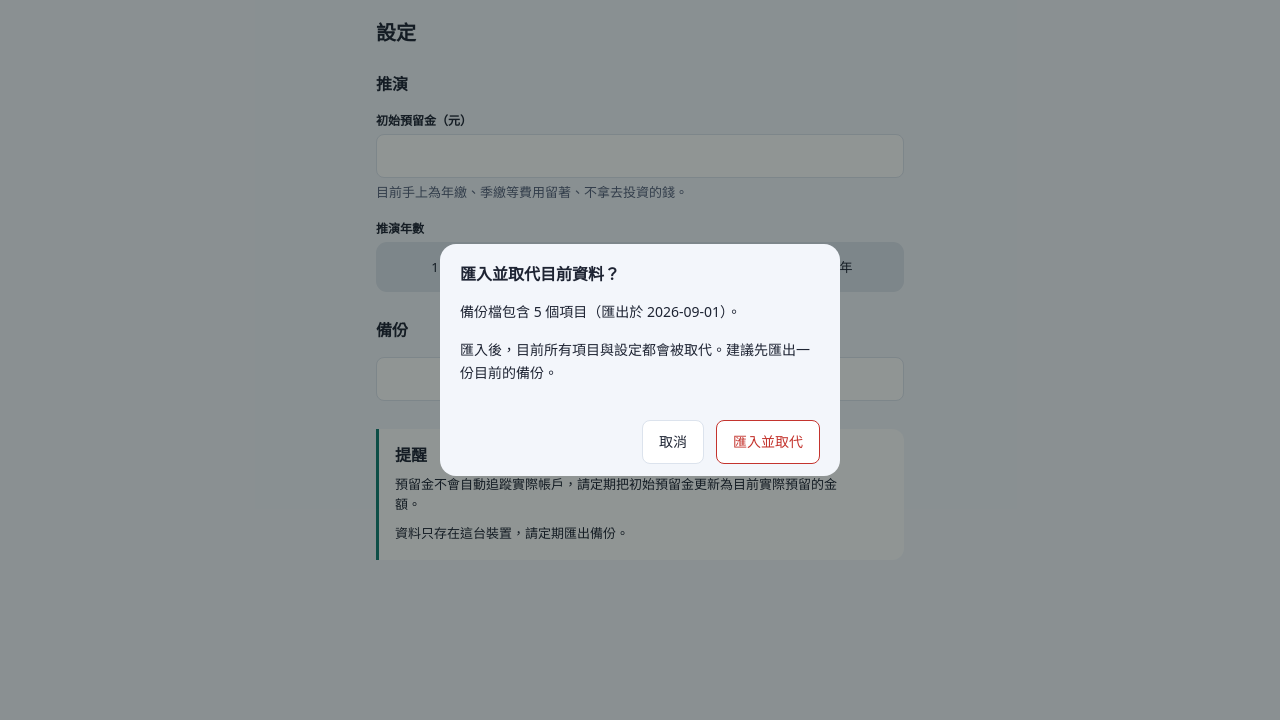
匯入 › 確認對話框顯示摘要，確認後完全取代
The width and height of the screenshot is (1280, 720).
Earlier steps of the test are not shown.
Expected: the button "匯入備份" is shown, [646, 357, 904, 401]
Expected: the dialog shows "備份檔包含 5 個項目（匯出於 2026-09-01）", [440, 244, 840, 476]
Click the button "匯入並取代".
click(768, 442)  # box [716, 420, 820, 464]
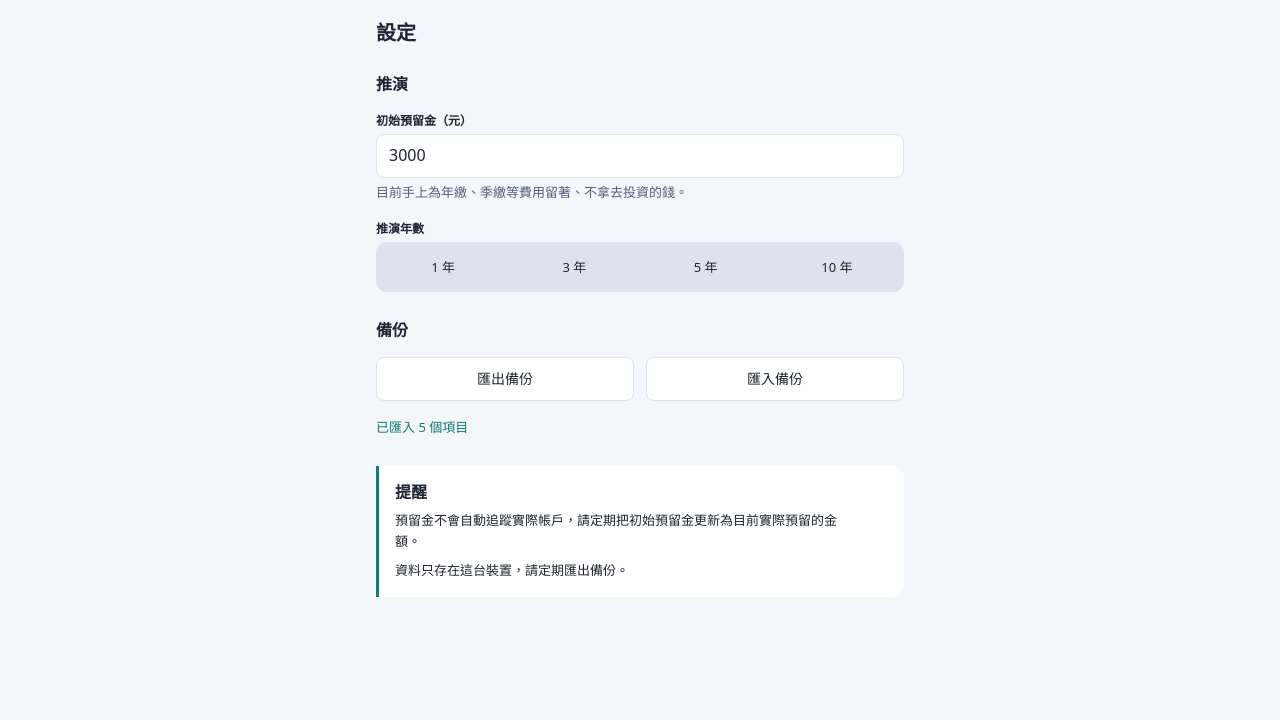
Expected: the text "已匯入 5 個項目" is shown, [376, 418, 468, 436]
Expected: the field labelled "初始預留金（元）" holds "3000", [376, 134, 904, 178]
